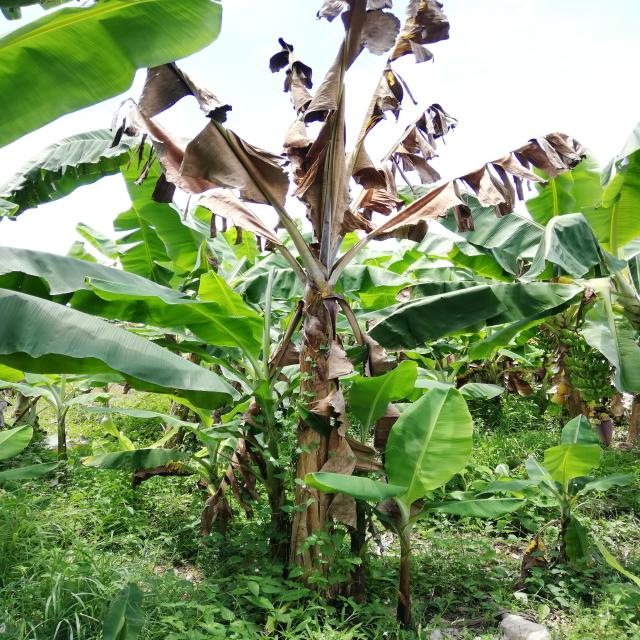Banana-plant: (281, 238, 346, 588)
